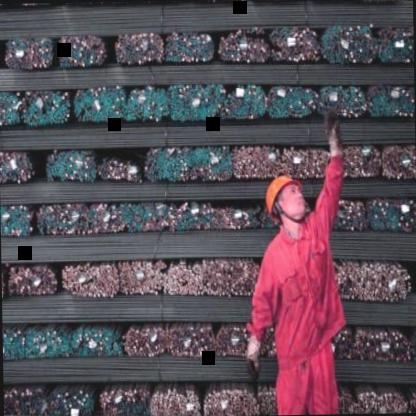helmet: (260, 170, 306, 228)
